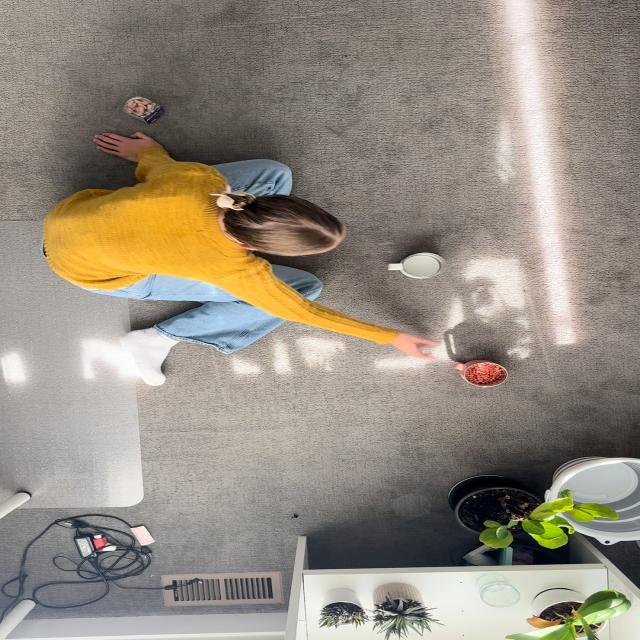IBC: (452, 360, 507, 388), (388, 252, 445, 279)
